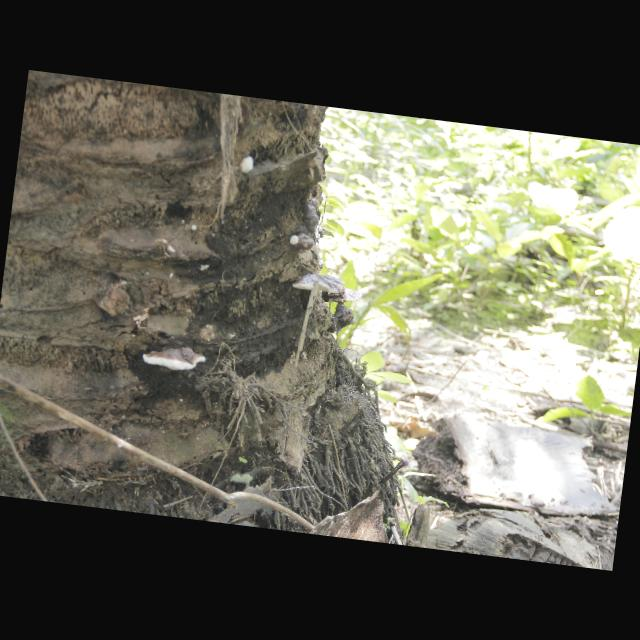ganoderma: (139, 342, 208, 376), (297, 198, 323, 253), (291, 271, 346, 296), (319, 285, 363, 308)
primordium: (238, 156, 255, 175), (289, 235, 299, 247), (191, 225, 198, 232)
